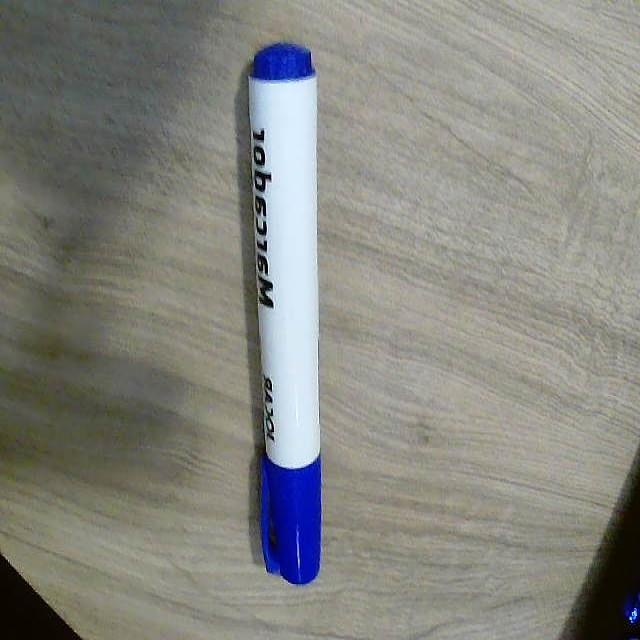caneta: (240, 21, 334, 594)
